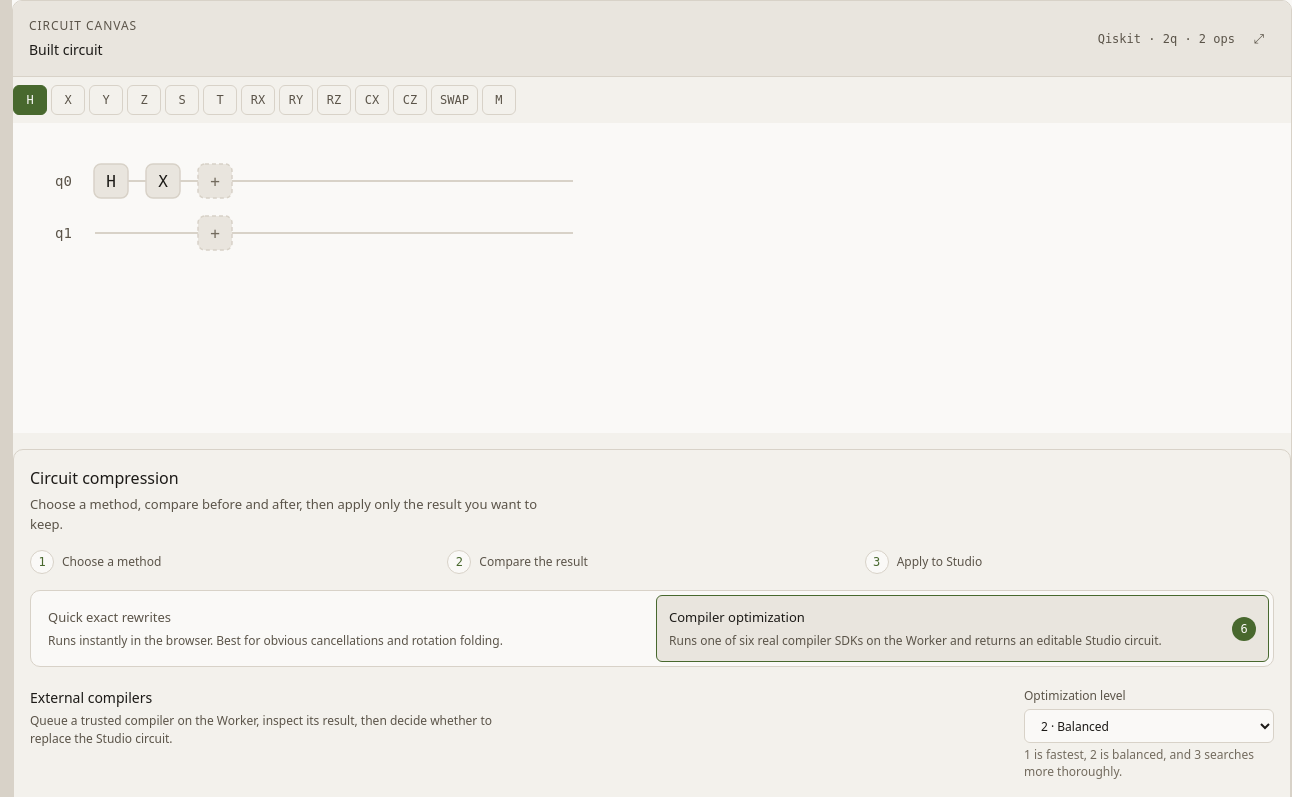
Scenario: Studio compression disables application when the selected strategy has no exact rewrite
This screenshot has width=1292, height=797.
Click the tab "Quick exact rewrites": (110, 617) [35,595,648,662]
(page scrolled)
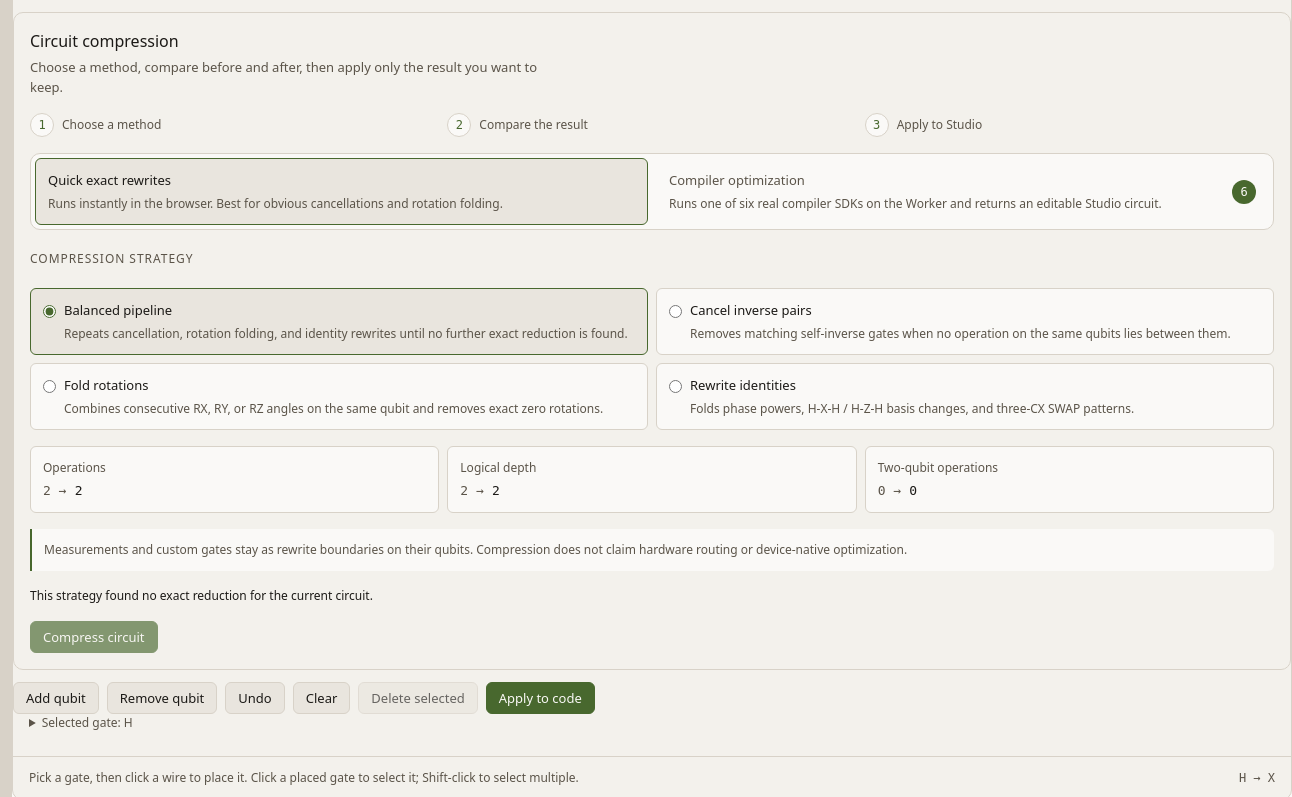
Expected: the text "This strategy found no exact reduction for the current circuit." is shown, [30,588,373,604]
